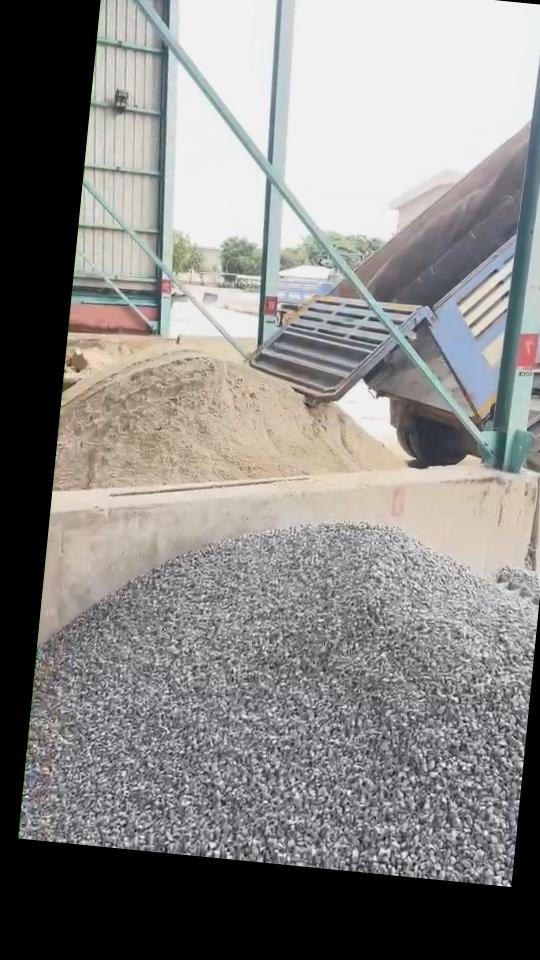gravel: (23, 524, 539, 885), (497, 567, 540, 605)
sand: (55, 348, 403, 489), (67, 347, 114, 375)
